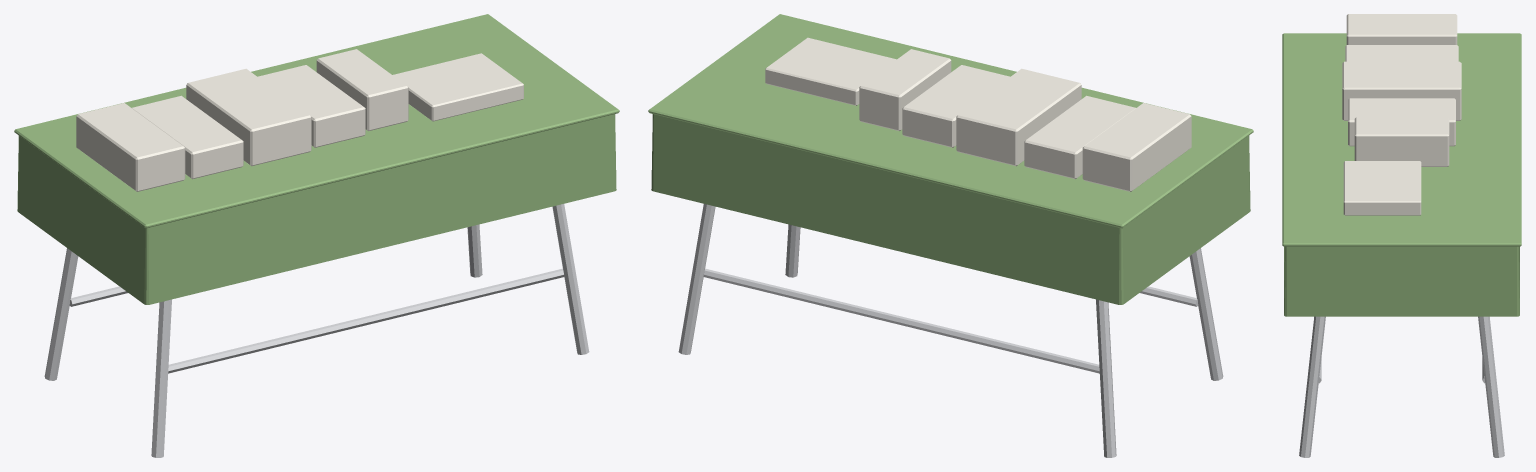
The model's file is indoor-market-hall-and-traders-folding-trader-table-c8986b1d.glb.
3 renders of one model, left to right at view 1: azimuth 30°, elevation 25°; view 2: azimuth 150°, elevation 25°; view 3: azimuth 270°, elevation 25°, orthographic. The views are drawn at different scales.
Parts seen in each view (by area): view 1: folding-trader-table; view 2: folding-trader-table; view 3: folding-trader-table.
Boxes of the visible parts, x1,y1,x2,y2 form: folding-trader-table: (14,14,619,457); folding-trader-table: (648,14,1253,457); folding-trader-table: (1282,14,1521,457).
Size of the model in its own units: 1.54 by 0.8789 by 0.74.
